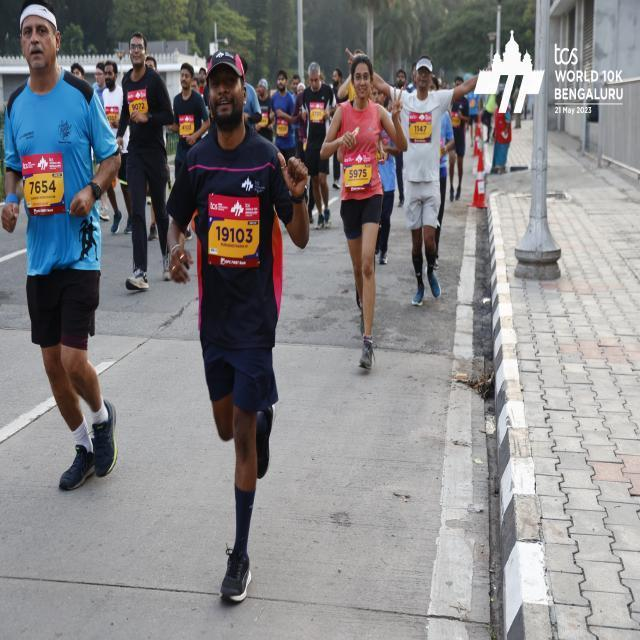dorsal: (206, 189, 260, 272), (18, 152, 66, 216), (339, 149, 374, 194), (407, 109, 432, 147)
